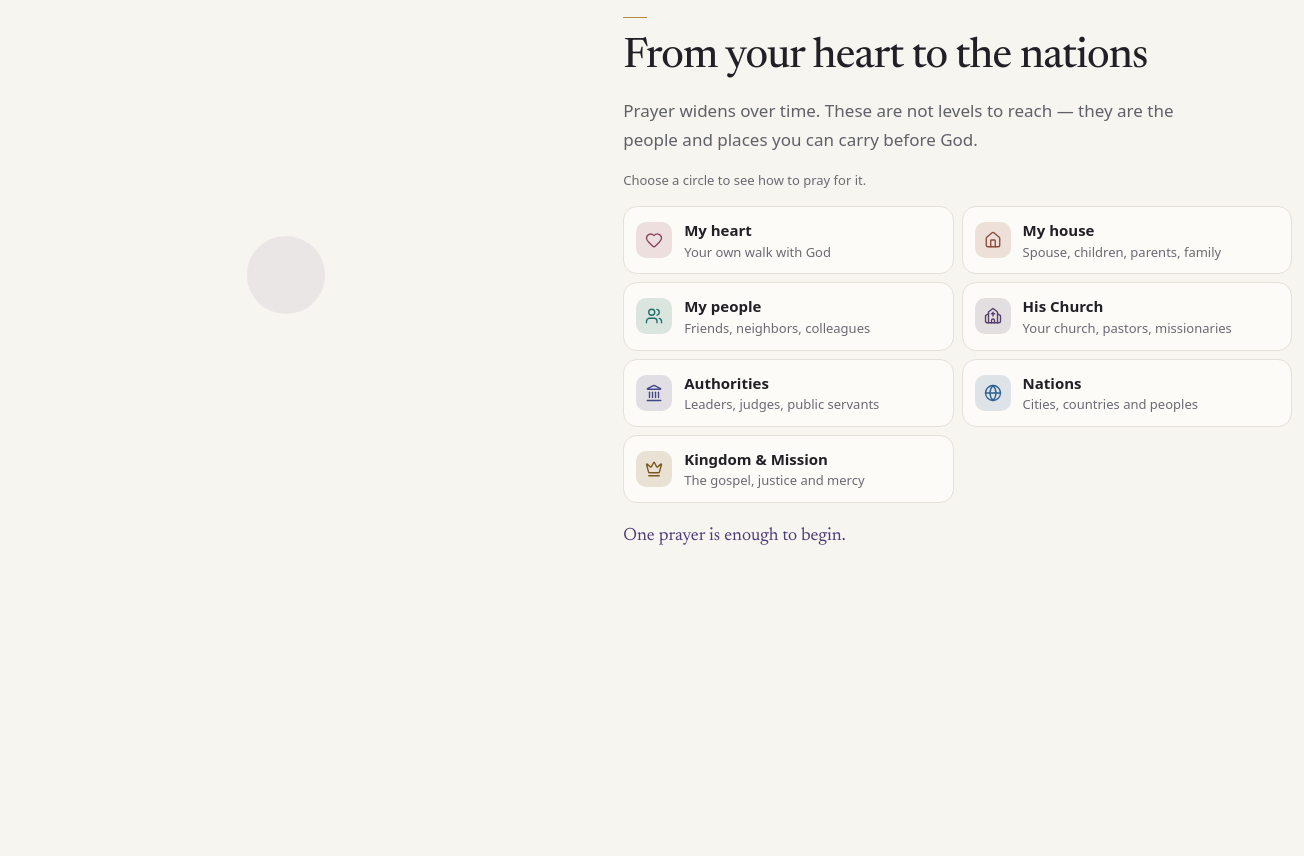
Test: LandingCircles › switches circles without leaving the previous circle’s words behind
Click the button "My house Spouse, children, parents, family".
click(1127, 240)  # box [962,206,1292,274]
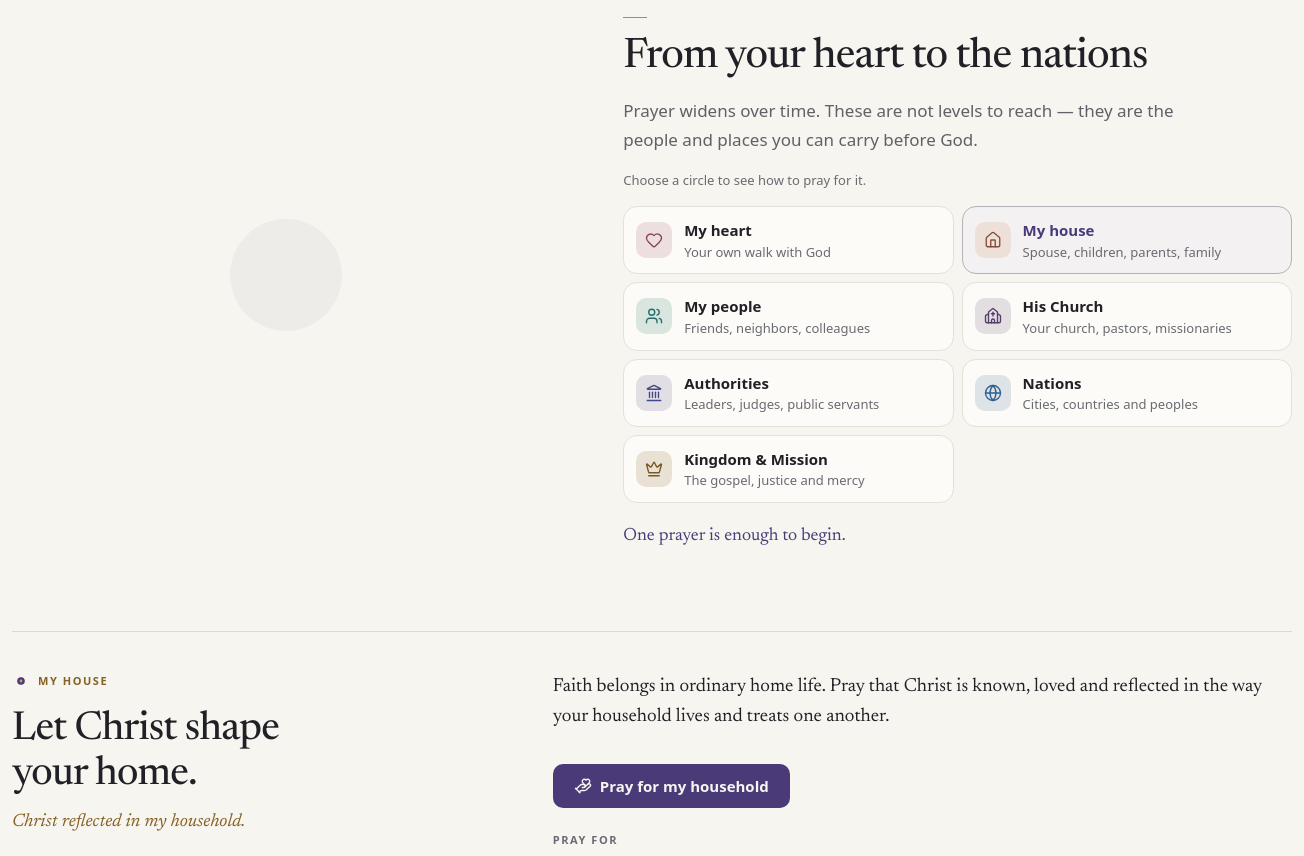
Click the button "Nations Cities, countries and peoples".
click(1127, 393)  # box [962,358,1292,427]
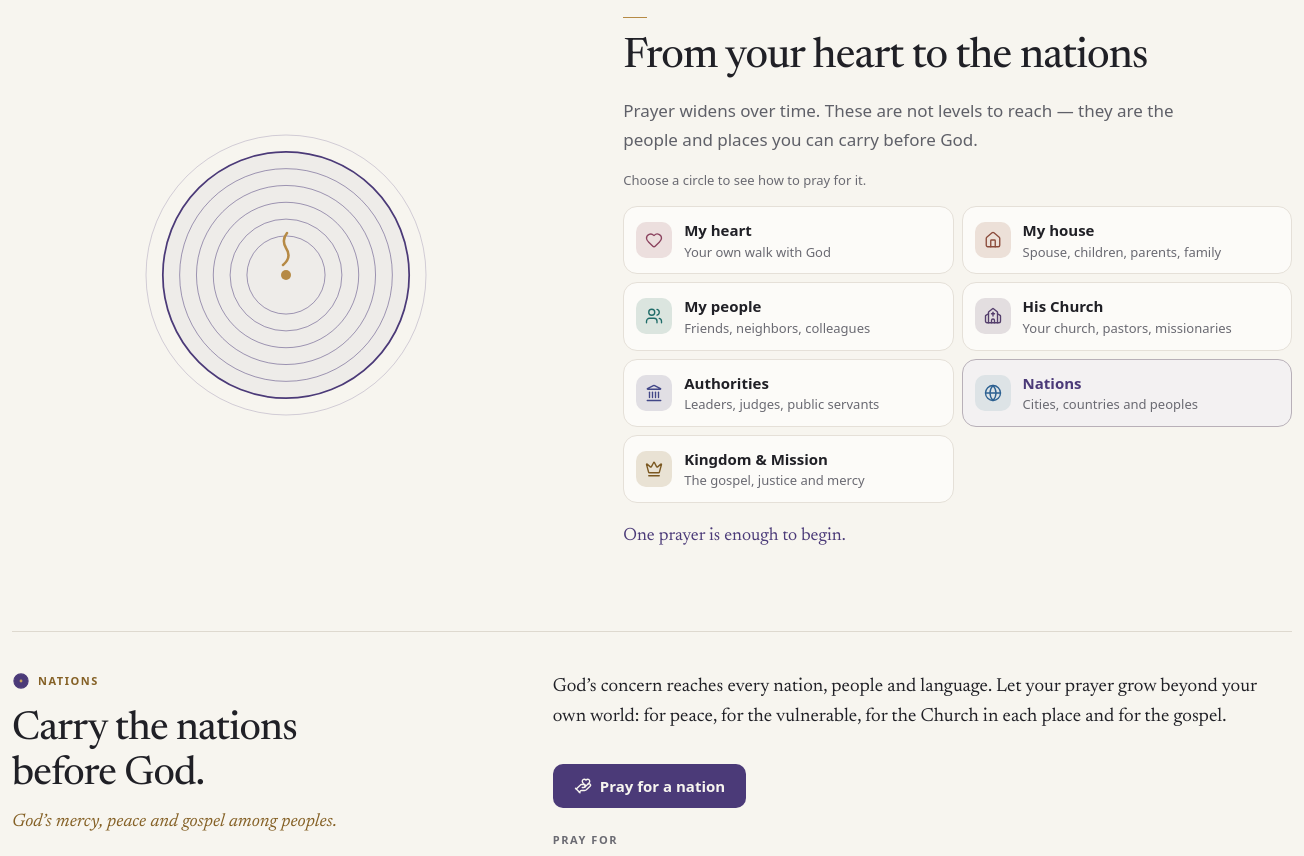
Now the heading "Carry the nations before God." is shown, box [12,710,297,795]
Now the heading "Let Christ shape your home." is gone
Now the text "Faith belongs in ordinary home life. Pray that Christ is known, loved and reflected in the way your household lives and " is gone
